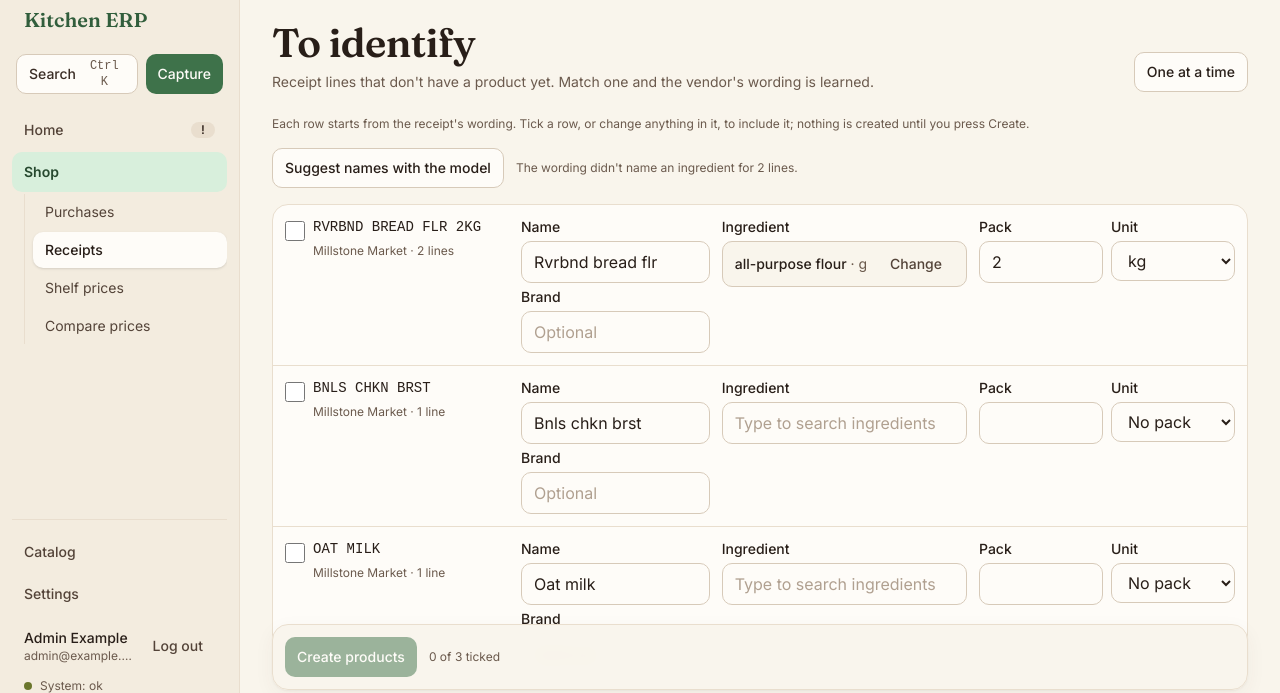
Test: naming new products in bulk › keeps a failed row's input and shows why
This screenshot has width=1280, height=693.
Replace the text in the dropdown labelled "Name" next to "all-purpose flour" with "Riverbend bread flour" at {"x": 615, "y": 262}, box x1=521 y1=241 x2=710 y2=283
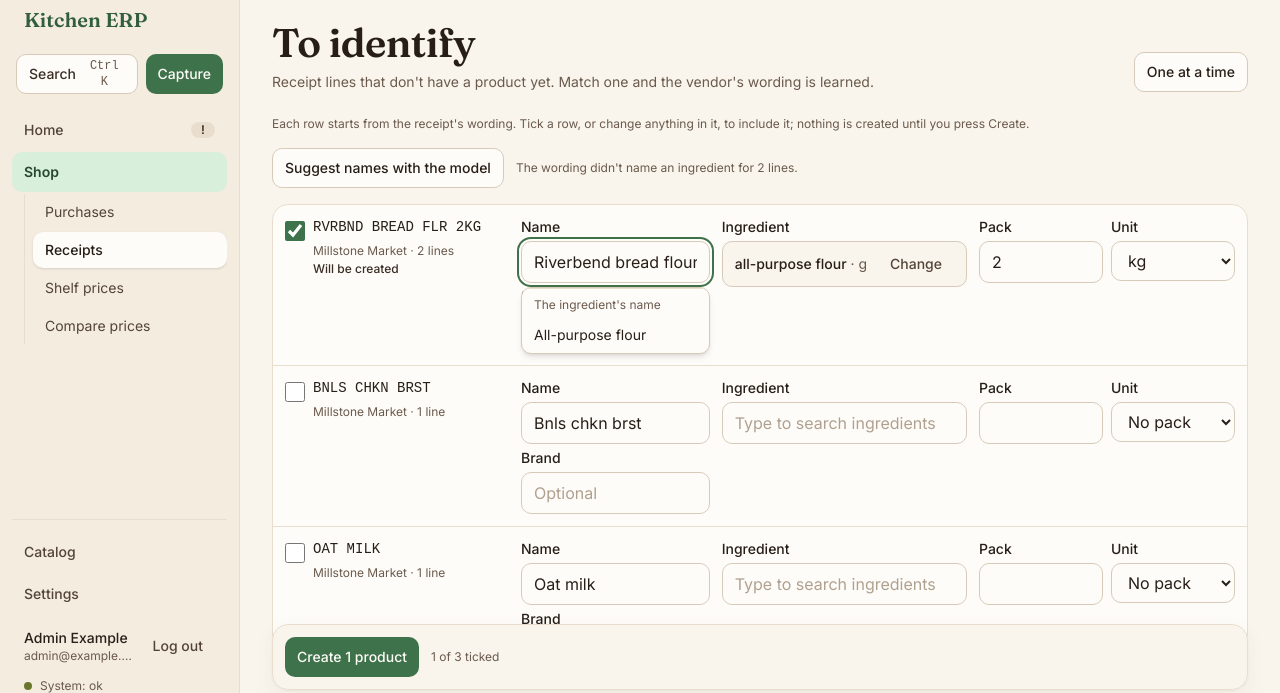
Click the button "Create 1 product" at {"x": 352, "y": 657}, box x1=285 y1=637 x2=419 y2=677
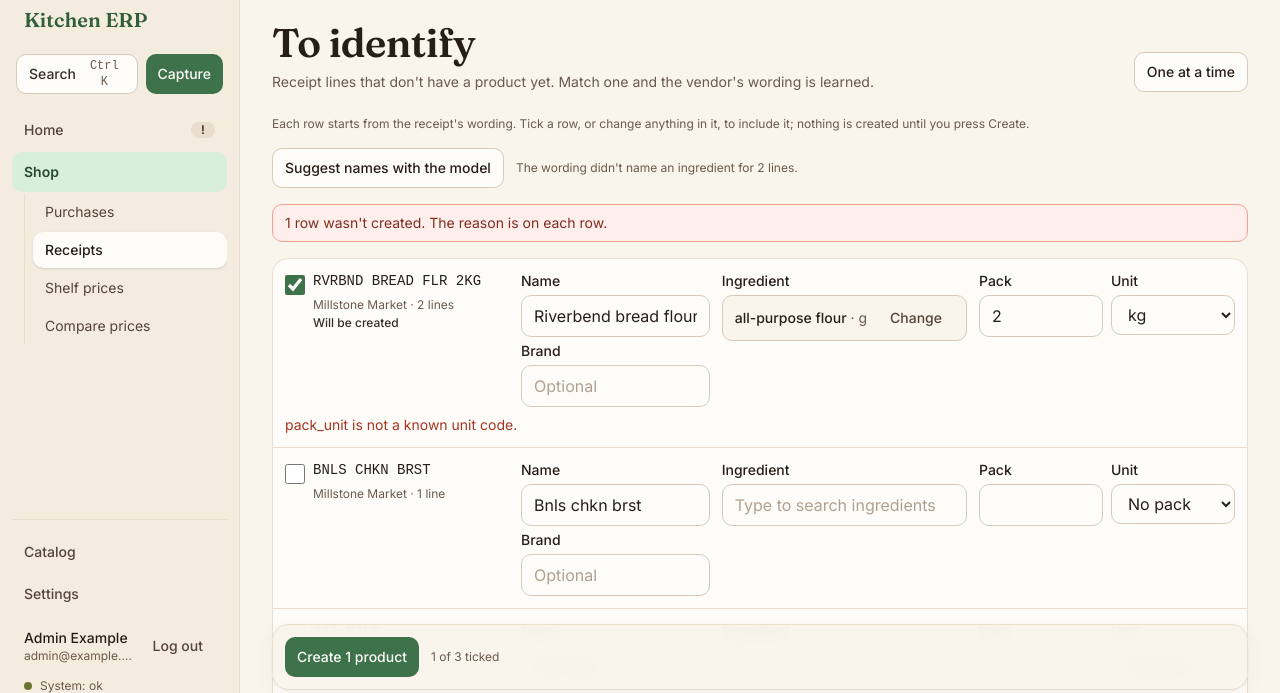
Check: the text "1 row wasn't created. The reason is on each row." is shown, box x1=272 y1=204 x2=1248 y2=242
Note: Back to one at a time.
Click the button "One at a time" at {"x": 1191, "y": 72}, box x1=1134 y1=52 x2=1248 y2=92
(page scrolled)
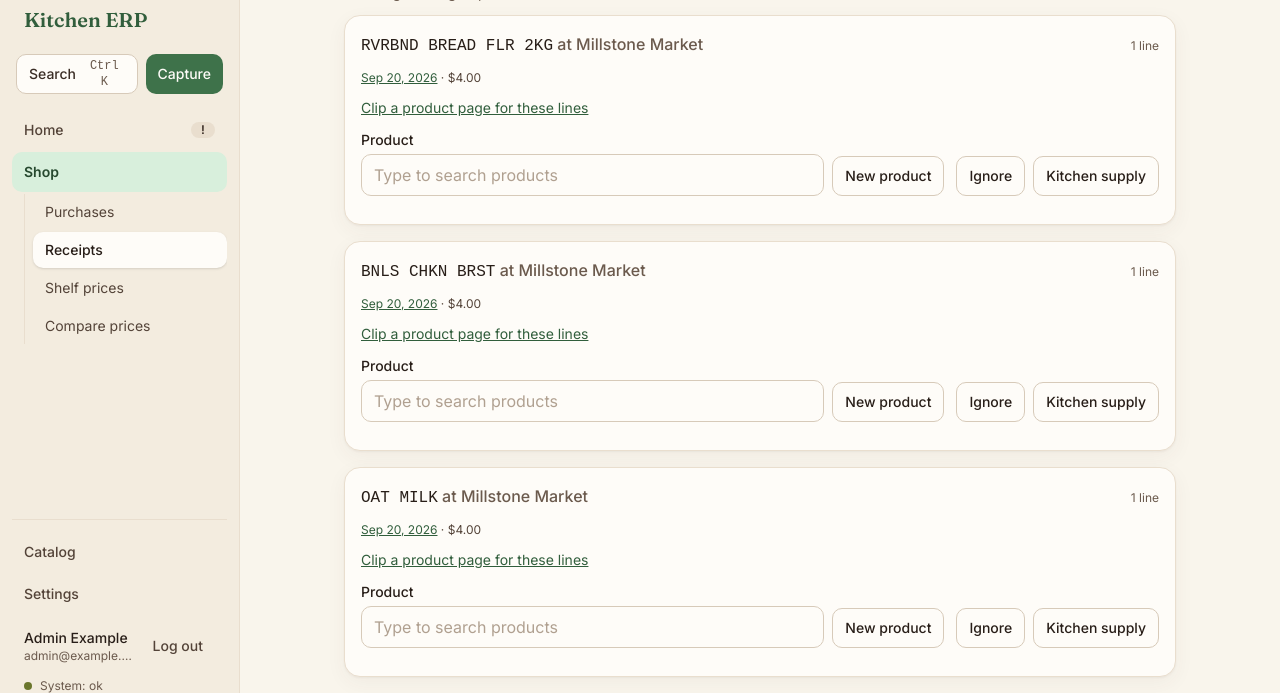
Check: the list named "Lines to identify" is shown
